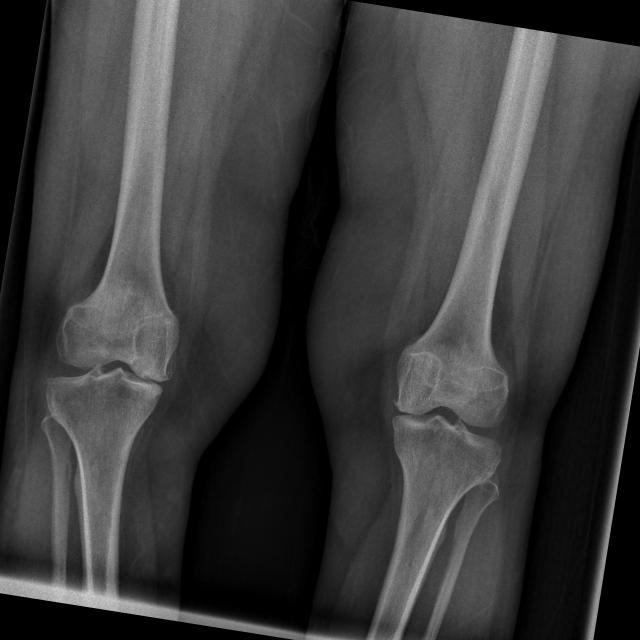Knee: (40, 283, 192, 438), (380, 339, 520, 495)
